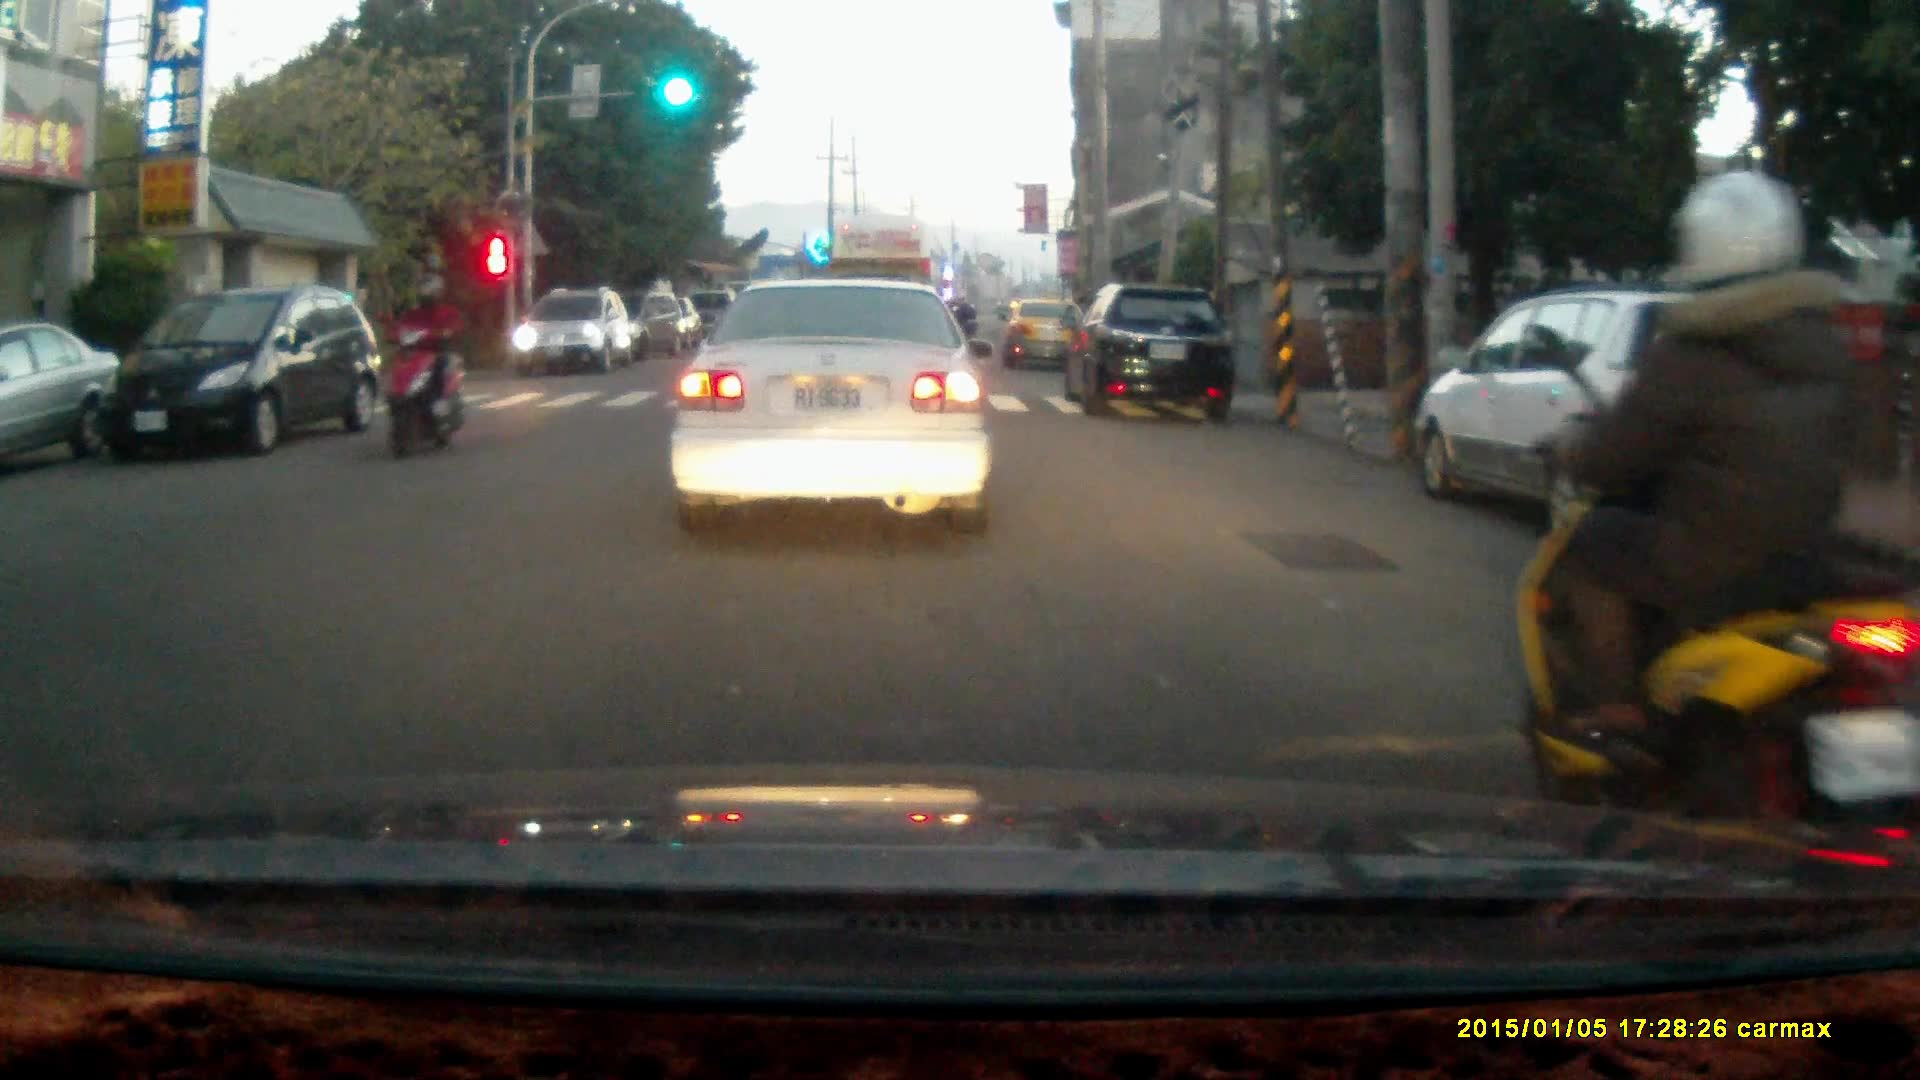rider: (1511, 166, 1920, 891), (377, 266, 461, 461)
vehicle: (1408, 288, 1842, 553), (674, 272, 996, 530), (92, 282, 386, 462), (1074, 283, 1235, 420), (826, 207, 942, 364), (0, 319, 118, 472), (514, 290, 637, 380), (1002, 296, 1097, 375)
